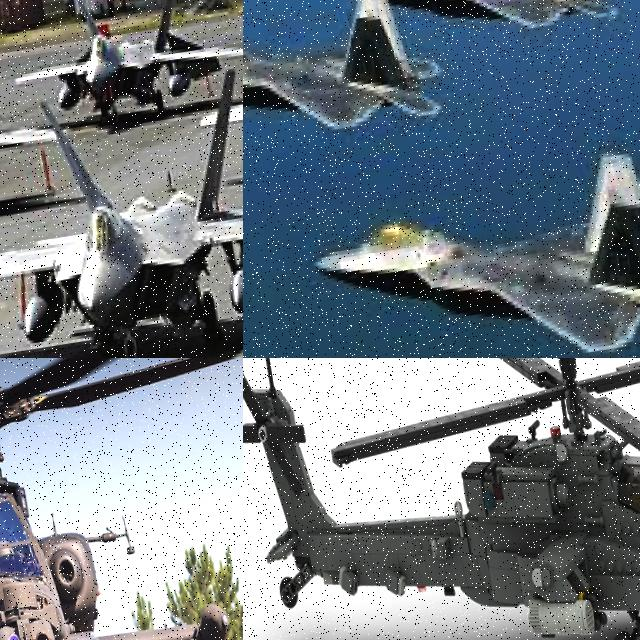Apache: (243, 358, 640, 640), (0, 358, 243, 640)
F22: (304, 132, 640, 358), (0, 62, 243, 358), (243, 0, 450, 164), (0, 0, 243, 133), (337, 0, 627, 56), (180, 0, 243, 195)
